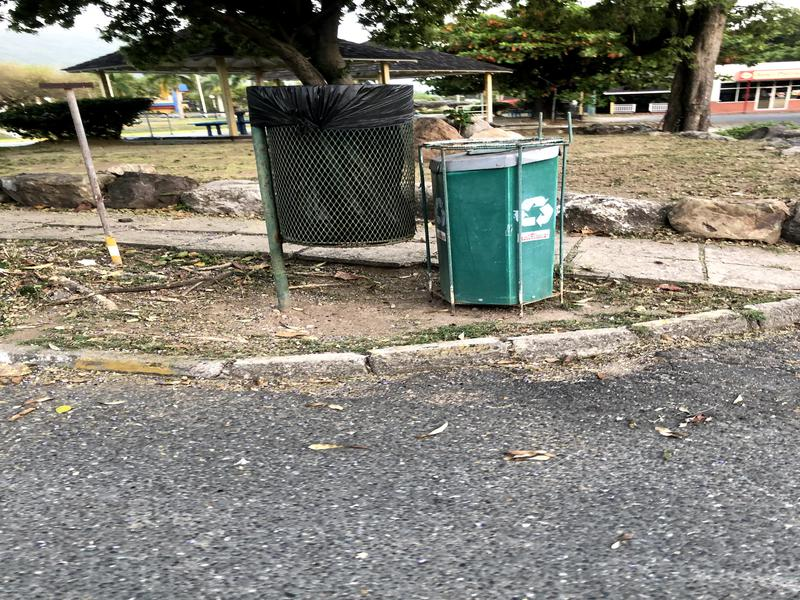18.0053245_-76.7486424_recyclebin: (423, 124, 586, 324)
